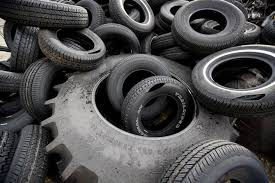tire: (190, 41, 275, 117), (158, 139, 268, 183), (171, 1, 248, 57), (122, 75, 191, 136), (109, 57, 173, 121), (37, 21, 107, 71), (1, 1, 87, 31), (88, 23, 142, 70), (109, 1, 154, 37)
